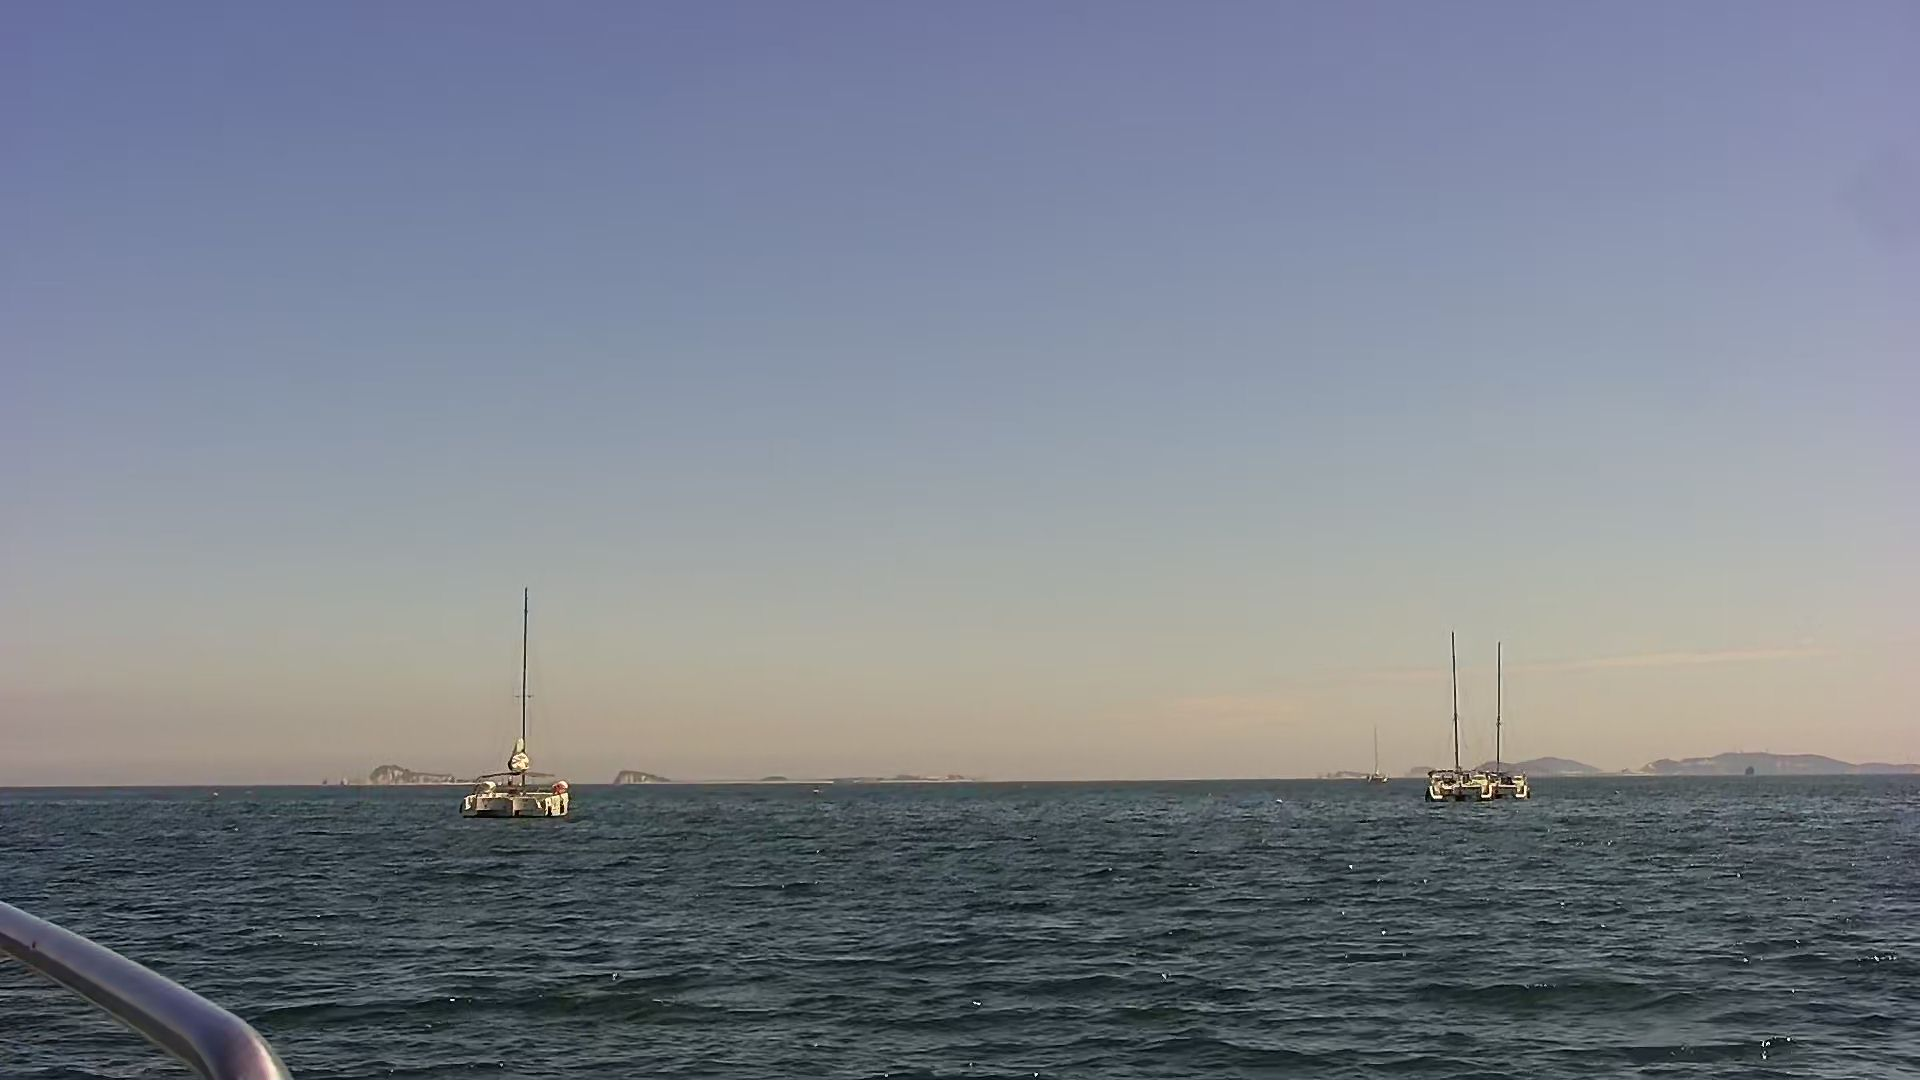boat: (473, 571, 580, 824), (1423, 624, 1495, 812), (1489, 644, 1551, 804), (1364, 735, 1398, 787)
rock: (1636, 753, 1873, 775), (825, 767, 993, 789), (357, 761, 467, 786), (1485, 752, 1619, 771), (605, 765, 684, 789), (1313, 764, 1383, 785), (761, 769, 796, 781)
